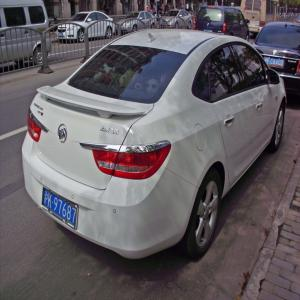Vehicle-registration-plate: (38, 183, 82, 234), (265, 57, 285, 68), (204, 29, 214, 32)
